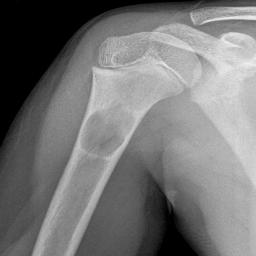cancer: (79, 103, 138, 158)
